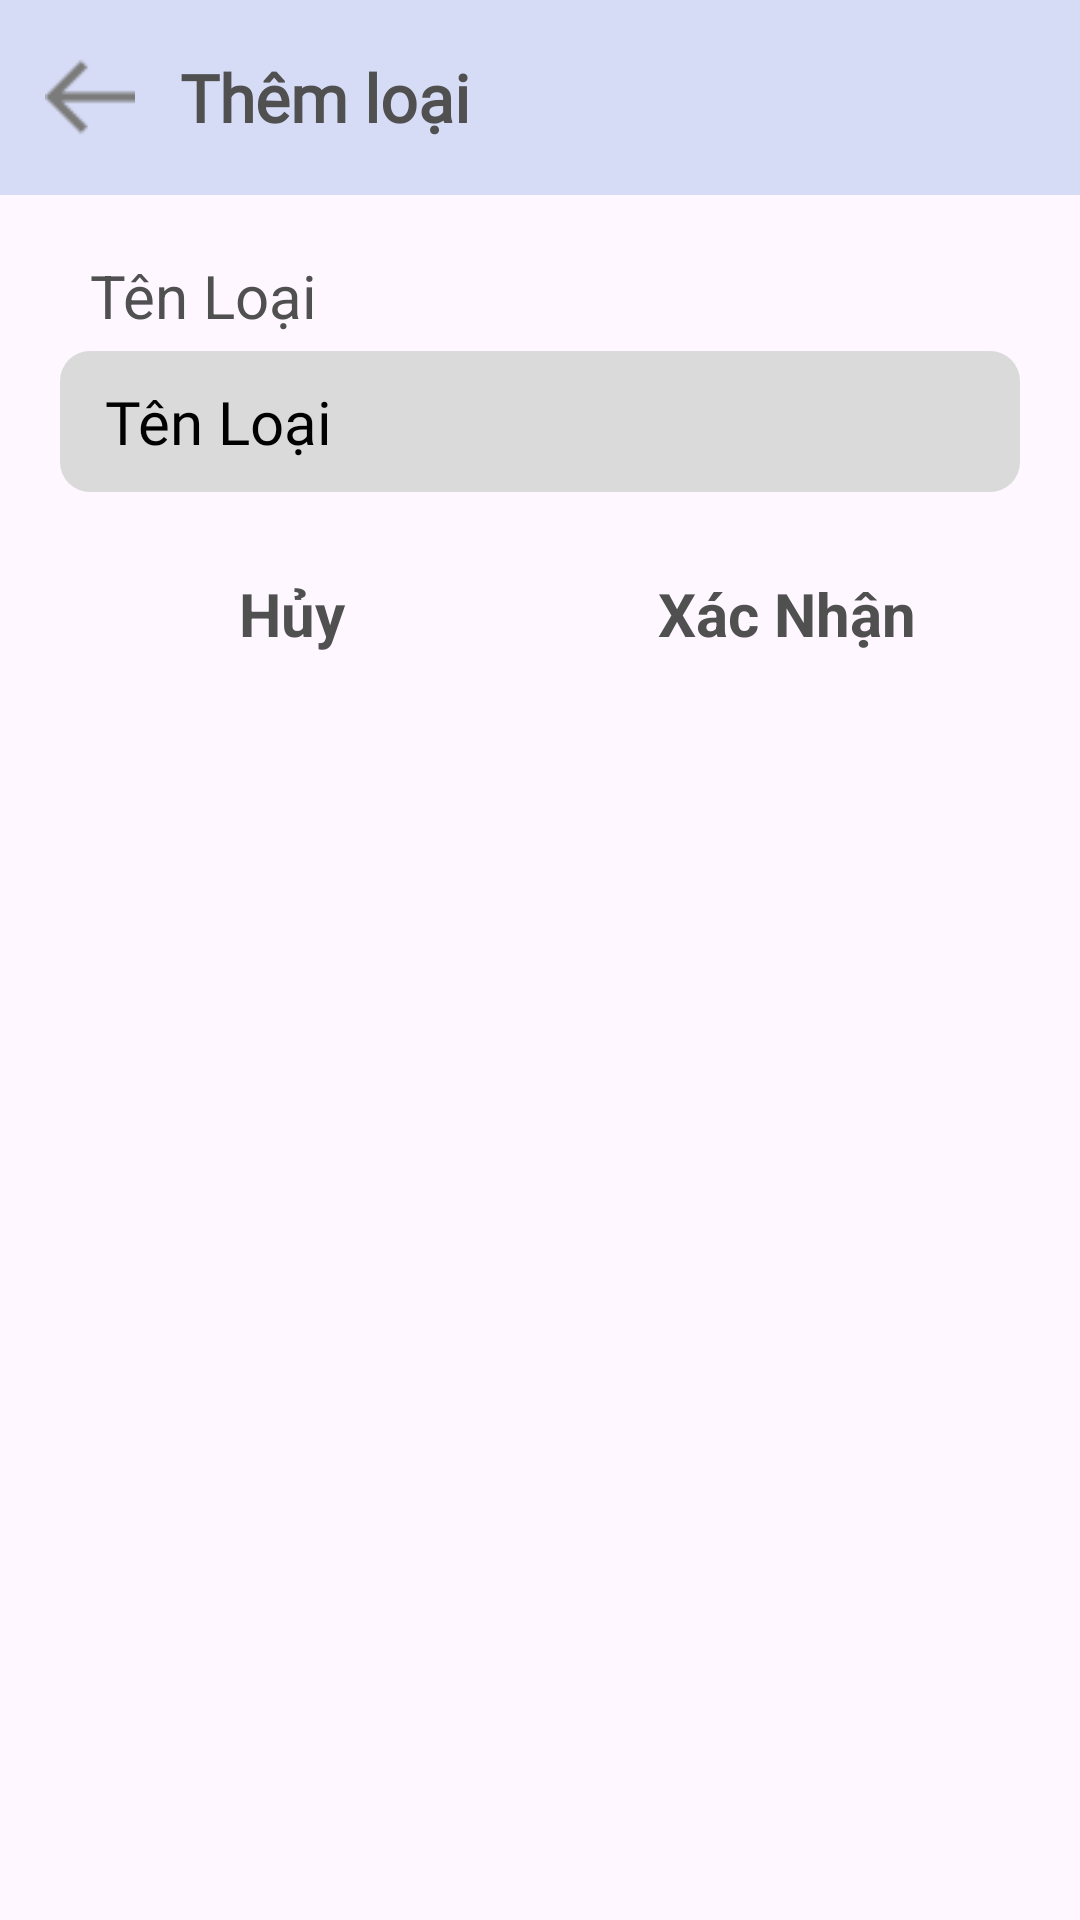

Locate icon controls on the screen. Image size 1080px×1920px, boxes as (x1, y1, x2, y2).
leftarrow: (45, 60, 135, 134)
